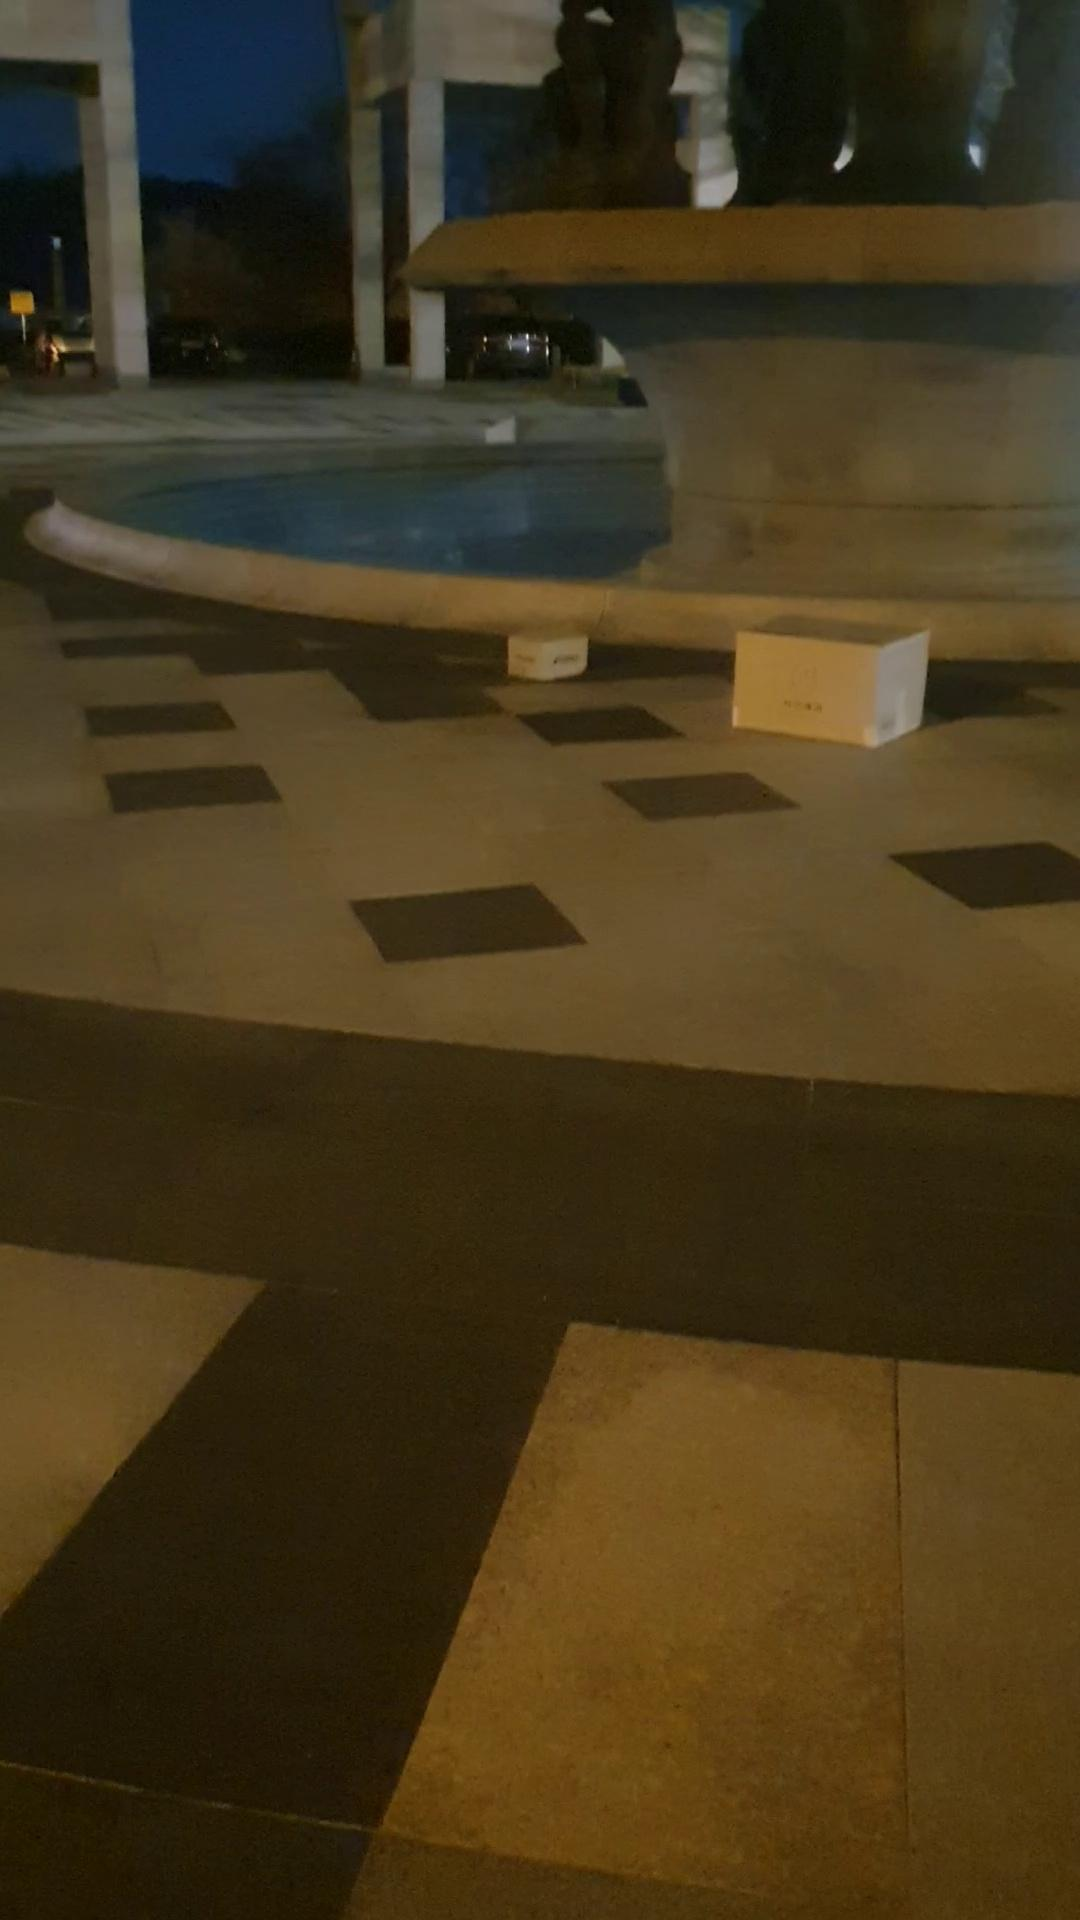Box: (723, 593, 922, 748), (516, 608, 618, 690)
